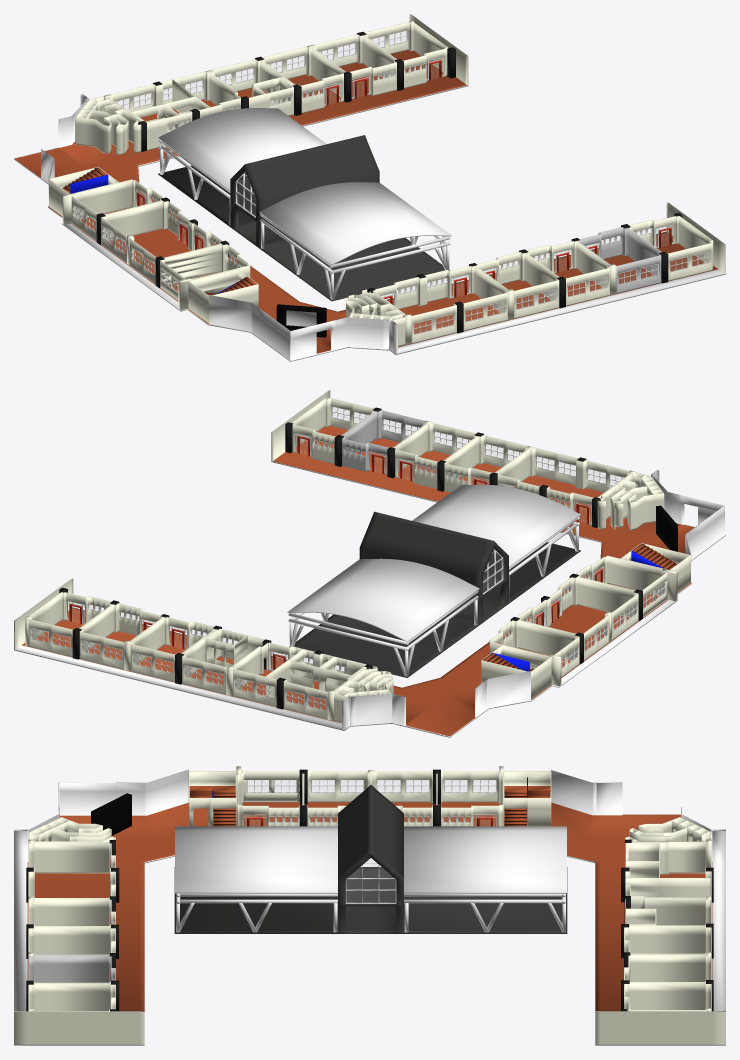
Rendered from Lantai 1.obj.
The picture shows the model from 3 angles, top to bottom: view 1: azimuth 30°, elevation 25°; view 2: azimuth 150°, elevation 25°; view 3: azimuth 270°, elevation 25°; orthographic projection. The views are drawn at different scales.
Parts seen in each view (by area): view 1: Plaza_Supeno, Lantai_, IF_105, Pillar, IF_107, IF_109, IF_110, IF_112, IF_101, IF_104, IF_102, IF_103 (+10 smaller); view 2: Plaza_Supeno, Lantai_, IF_109, Pillar, IF_105, IF_107, IF_110, IF_102, IF_111, IF_112, IF_113, IF_103 (+10 smaller); view 3: Plaza_Supeno, Lantai_, IF_107, IF_109, Pillar, IF_106, IF_108, IF_105, Box540, IF_113, IF_101, IF_103 (+11 smaller).
Part boxes in pixels (x1,y1,x2,y2): Plaza_Supeno: [158, 108, 451, 301]; Lantai_: [14, 14, 725, 361]; IF_105: [372, 266, 507, 343]; Pillar: [62, 20, 682, 345]; IF_107: [101, 200, 222, 284]; IF_109: [109, 71, 240, 150]; IF_110: [210, 59, 294, 115]; IF_112: [312, 34, 396, 98]; IF_101: [628, 216, 713, 280]; IF_104: [475, 252, 559, 318]; IF_102: [577, 227, 661, 293]; IF_103: [526, 241, 609, 305]; Plaza_Supeno: [287, 484, 580, 677]; Lantai_: [14, 390, 725, 737]; IF_109: [233, 642, 366, 719]; Pillar: [25, 407, 677, 720]; IF_105: [496, 447, 630, 524]; IF_107: [517, 576, 638, 660]; IF_110: [182, 628, 264, 694]; IF_102: [342, 410, 426, 474]; IF_111: [130, 617, 214, 682]; IF_112: [79, 603, 162, 669]; IF_113: [28, 592, 112, 657]; IF_103: [394, 422, 477, 488]; Plaza_Supeno: [174, 785, 567, 933]; Lantai_: [14, 769, 725, 1045]; IF_107: [303, 771, 436, 826]; IF_109: [625, 841, 711, 908]; Pillar: [26, 766, 713, 1011]; IF_106: [237, 771, 303, 826]; IF_108: [437, 771, 503, 826]; IF_105: [28, 842, 115, 898]; Box540: [503, 771, 551, 826]; IF_113: [624, 982, 711, 1011]; IF_101: [28, 983, 115, 1011]; IF_103: [28, 926, 115, 954].
Size of the model in its own units: 67.23 by 10.59 by 82.08.
